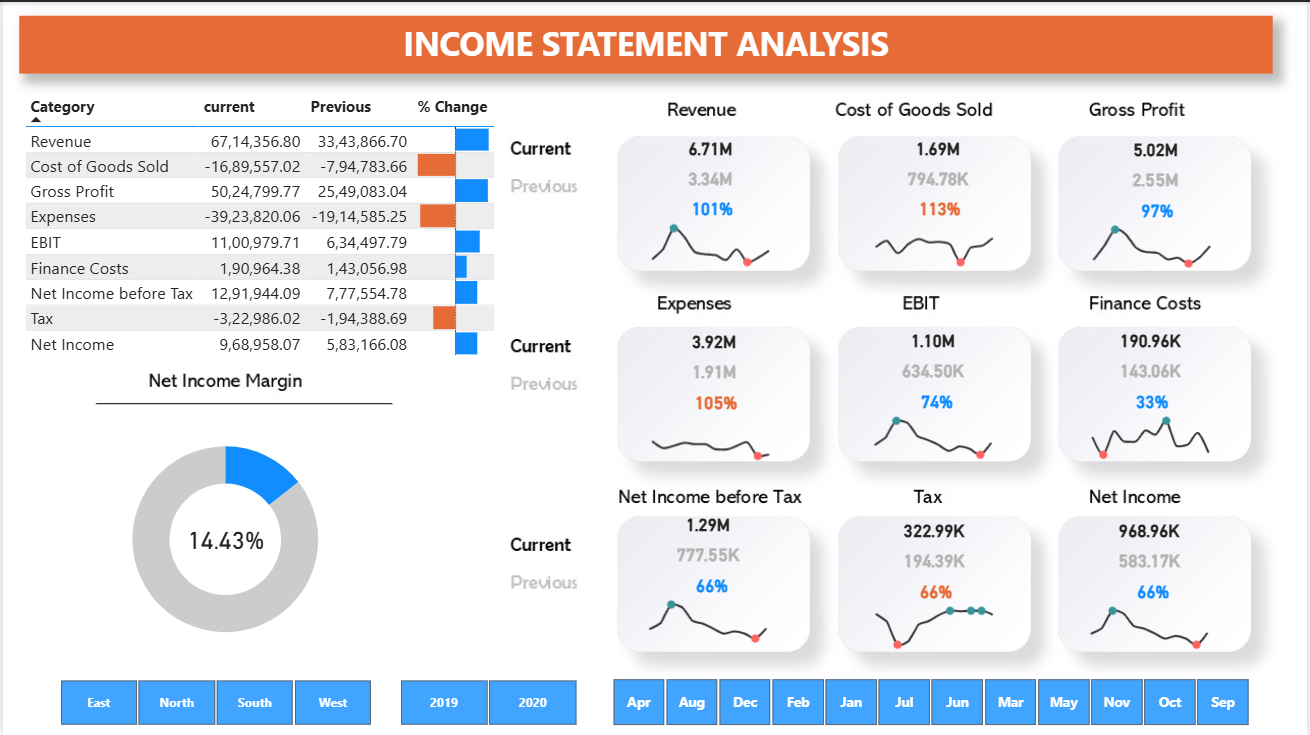

The page's visual inventory and layout, read from the dashboard file:
{"tool":"powerbi","page":{"name":"DashBoard","canvas":[1280,720],"ordinal":0},"visuals":[{"type":"tableEx","fields":{"Values":["layout.Category","COA.current","My Measures.Previous","My Measures.% Change"]},"box":[16,85.9,481,278.5],"z":0},{"type":"slicer","fields":{"Values":["Calender.Year"]},"box":[364.4,658.9,222.1,57.7],"z":1000},{"type":"textbox","box":[16,13.5,1230.7,56.4],"z":2000},{"type":"donutChart","fields":{"Y":["My Measures.Net Income Margin","My Measures.Inv Net Income Margin"]},"box":[51.5,408.6,333.7,238],"z":3000},{"type":"slicer","fields":{"Values":["Calender.Month Name"]},"box":[573,657.7,673.6,58.9],"z":4000},{"type":"card","fields":{"Values":["KPIs.Current Revenue"]},"box":[652.7,130.1,83.4,29.4],"z":5000,"group":"g1"},{"type":"card","fields":{"Values":["KPIs.COGS Current"]},"box":[875.8,130.1,83.4,29.4],"z":5000,"group":"g7"},{"type":"card","fields":{"Values":["KPIs.GP Current"]},"box":[1089.3,131.3,83.4,29.4],"z":5000,"group":"g8"},{"type":"card","fields":{"Values":["KPIs.EBIT Current"]},"box":[871.1,319,83.4,29.4],"z":5000,"group":"g2"},{"type":"card","fields":{"Values":["KPIs.Fin Cost Current"]},"box":[1084.6,319,83.4,29.4],"z":5000,"group":"g3"},{"type":"card","fields":{"Values":["KPIs.Current Expenses"]},"box":[656.1,320.2,83.4,29.4],"z":5000,"group":"g9"},{"type":"card","fields":{"Values":["KPIs.Current NIBT"]},"box":[650.3,499.4,83.4,29.4],"z":5000,"group":"g4"},{"type":"card","fields":{"Values":["KPIs.Current Tax"]},"box":[872.4,505.5,83.4,29.4],"z":5000,"group":"g6"},{"type":"card","fields":{"Values":["KPIs.Current NI"]},"box":[1083.4,505.5,83.4,29.4],"z":5000,"group":"g5"},{"type":"slicer","fields":{"Values":["Division.Division"]},"box":[30.7,658.9,354.6,57.7],"z":5000},{"type":"card","fields":{"Values":["KPIs.Revenue % Change"]},"box":[644.1,189,104.3,30.7],"z":6000,"group":"g1"},{"type":"card","fields":{"Values":["KPIs.COGS % Change"]},"box":[867.2,189,104.3,30.7],"z":6000,"group":"g7"},{"type":"card","fields":{"Values":["KPIs.GP % Change"]},"box":[1080.7,190.2,104.3,30.7],"z":6000,"group":"g8"},{"type":"card","fields":{"Values":["KPIs.EBIT % Change"]},"box":[862.5,377.9,104.3,30.7],"z":6000,"group":"g2"},{"type":"card","fields":{"Values":["KPIs.Fin Cost % Change"]},"box":[1076,377.9,104.3,30.7],"z":6000,"group":"g3"},{"type":"card","fields":{"Values":["KPIs.Expense % Change"]},"box":[647.5,379.1,104.3,30.7],"z":6000,"group":"g9"},{"type":"card","fields":{"Values":["My Measures.Net Income Margin"]},"box":[173,503.1,92,50.3],"z":6000},{"type":"card","fields":{"Values":["KPIs.NIBT % Change"]},"box":[641.7,558.3,104.3,30.7],"z":6000,"group":"g4"},{"type":"card","fields":{"Values":["KPIs.Tax % Change"]},"box":[863.8,564.4,104.3,30.7],"z":6000,"group":"g6"},{"type":"card","fields":{"Values":["KPIs.NI % Change"]},"box":[1074.8,564.4,104.3,30.7],"z":6000,"group":"g5"},{"type":"group","id":"g1","title":"Group 1","box":[619.6,130.1,153.4,136.2],"z":7000},{"type":"card","fields":{"Values":["KPIs.Previous Revenue"]},"box":[652.7,159.5,83.4,29.4],"z":7000,"group":"g1"},{"type":"card","fields":{"Values":["KPIs.COGS Previous"]},"box":[875.8,159.5,83.4,29.4],"z":7000,"group":"g7"},{"type":"card","fields":{"Values":["KPIs.GP Previous"]},"box":[1089.3,160.7,83.4,29.4],"z":7000,"group":"g8"},{"type":"card","fields":{"Values":["KPIs.EBIT Previous"]},"box":[871.1,348.4,83.4,29.4],"z":7000,"group":"g2"},{"type":"card","fields":{"Values":["KPIs.Fin Cost Previous"]},"box":[1084.6,348.4,83.4,29.4],"z":7000,"group":"g3"},{"type":"card","fields":{"Values":["KPIs.Previous Expenses"]},"box":[656.1,349.6,83.4,29.4],"z":7000,"group":"g9"},{"type":"card","fields":{"Values":["KPIs.Previous NIBT"]},"box":[650.3,528.8,83.4,29.4],"z":7000,"group":"g4"},{"type":"card","fields":{"Values":["KPIs.Previous Tax"]},"box":[872.4,534.9,83.4,29.4],"z":7000,"group":"g6"},{"type":"card","fields":{"Values":["KPIs.Previous NI"]},"box":[1083.4,534.9,83.4,29.4],"z":7000,"group":"g5"},{"type":"group","id":"g2","title":"Group 1","box":[838,319,153.4,136.2],"z":8000},{"type":"group","id":"g3","title":"Group 1","box":[1051.5,319,153.4,136.2],"z":9000},{"type":"PBI_CV_25997FEB_F466_44FA_B562_AC4063283C4C","fields":{"axis":["Calender.Month Name"],"measure":["My Measures.COGS"]},"box":[839.3,204.6,153.4,61.4],"z":10000,"group":"g7"},{"type":"PBI_CV_25997FEB_F466_44FA_B562_AC4063283C4C","fields":{"axis":["Calender.Month Name"],"measure":["My Measures.Revenue"]},"box":[619.6,204.9,153.4,61.4],"z":10000,"group":"g1"},{"type":"PBI_CV_25997FEB_F466_44FA_B562_AC4063283C4C","fields":{"axis":["Calender.Month Name"],"measure":["My Measures.Gross Profit"]},"box":[1052.8,205.8,153.4,61.4],"z":10000,"group":"g8"},{"type":"PBI_CV_25997FEB_F466_44FA_B562_AC4063283C4C","fields":{"axis":["Calender.Month Name"],"measure":["My Measures.EBIT"]},"box":[838,393.8,153.4,61.4],"z":10000,"group":"g2"},{"type":"PBI_CV_25997FEB_F466_44FA_B562_AC4063283C4C","fields":{"axis":["Calender.Month Name"],"measure":["My Measures.Finance Costs"]},"box":[1051.5,393.8,153.4,61.4],"z":10000,"group":"g3"},{"type":"PBI_CV_25997FEB_F466_44FA_B562_AC4063283C4C","fields":{"axis":["Calender.Month Name"],"measure":["My Measures.Expenses"]},"box":[619.6,394.7,153.4,61.4],"z":10000,"group":"g9"},{"type":"group","id":"g4","title":"Group 1","box":[617.2,499.4,153.4,136.2],"z":10000},{"type":"PBI_CV_25997FEB_F466_44FA_B562_AC4063283C4C","fields":{"axis":["Calender.Month Name"],"measure":["My Measures.Net Income Before Tax"]},"box":[617.2,574.2,153.4,61.4],"z":10000,"group":"g4"},{"type":"PBI_CV_25997FEB_F466_44FA_B562_AC4063283C4C","fields":{"axis":["Calender.Month Name"],"measure":["My Measures.Tax"]},"box":[839.3,580.3,153.4,61.4],"z":10000,"group":"g6"},{"type":"PBI_CV_25997FEB_F466_44FA_B562_AC4063283C4C","fields":{"axis":["Calender.Month Name"],"measure":["My Measures.Net Income"]},"box":[1050.3,580.3,153.4,61.4],"z":10000,"group":"g5"},{"type":"group","id":"g5","title":"Group 1","box":[1050.3,505.5,153.4,136.2],"z":11000},{"type":"group","id":"g6","title":"Group 1","box":[839.3,505.5,153.4,136.2],"z":12000},{"type":"group","id":"g7","title":"Group 1","box":[839.3,130.1,153.4,136.2],"z":13000},{"type":"group","id":"g8","title":"Group 2","box":[1052.8,131.3,153.4,135.8],"z":14000},{"type":"group","id":"g9","title":"Group 2","box":[619.6,320.2,153.4,136.2],"z":15000}]}

Visuals, with their boxes in screenshot pixels (x1, y1, x2, y2), scaled from the page's 1280x720 canvas onto the 1310x735 screenshot:
tableEx - layout.Category x COA.current: [16,88,509,372]
slicer - Calender.Year: [373,673,600,732]
textbox: [16,14,1276,71]
donutChart - My Measures.Net Income Margin x My Measures.Inv Net Income Margin: [53,417,394,660]
slicer - Calender.Month Name: [586,671,1276,732]
card - KPIs.Current Revenue: [668,133,753,163]
card - KPIs.COGS Current: [896,133,982,163]
card - KPIs.GP Current: [1115,134,1200,164]
card - KPIs.EBIT Current: [892,326,977,356]
card - KPIs.Fin Cost Current: [1110,326,1195,356]
card - KPIs.Current Expenses: [671,327,757,357]
card - KPIs.Current NIBT: [666,510,751,540]
card - KPIs.Current Tax: [893,516,978,546]
card - KPIs.Current NI: [1109,516,1194,546]
slicer - Division.Division: [31,673,394,732]
card - KPIs.Revenue % Change: [659,193,766,224]
card - KPIs.COGS % Change: [888,193,994,224]
card - KPIs.GP % Change: [1106,194,1213,226]
card - KPIs.EBIT % Change: [883,386,989,417]
card - KPIs.Fin Cost % Change: [1101,386,1208,417]
card - KPIs.Expense % Change: [663,387,769,418]
card - My Measures.Net Income Margin: [177,514,271,565]
card - KPIs.NIBT % Change: [657,570,763,601]
card - KPIs.Tax % Change: [884,576,991,607]
card - KPIs.NI % Change: [1100,576,1207,607]
"Group 1" group: [634,133,791,272]
card - KPIs.Previous Revenue: [668,163,753,193]
card - KPIs.COGS Previous: [896,163,982,193]
card - KPIs.GP Previous: [1115,164,1200,194]
card - KPIs.EBIT Previous: [892,356,977,386]
card - KPIs.Fin Cost Previous: [1110,356,1195,386]
card - KPIs.Previous Expenses: [671,357,757,387]
card - KPIs.Previous NIBT: [666,540,751,570]
card - KPIs.Previous Tax: [893,546,978,576]
card - KPIs.Previous NI: [1109,546,1194,576]
"Group 1" group: [858,326,1015,465]
"Group 1" group: [1076,326,1233,465]
PBI_CV_25997FEB_F466_44FA_B562_AC4063283C4C - Calender.Month Name x My Measures.COGS: [859,209,1016,272]
PBI_CV_25997FEB_F466_44FA_B562_AC4063283C4C - Calender.Month Name x My Measures.Revenue: [634,209,791,272]
PBI_CV_25997FEB_F466_44FA_B562_AC4063283C4C - Calender.Month Name x My Measures.Gross Profit: [1077,210,1234,273]
PBI_CV_25997FEB_F466_44FA_B562_AC4063283C4C - Calender.Month Name x My Measures.EBIT: [858,402,1015,465]
PBI_CV_25997FEB_F466_44FA_B562_AC4063283C4C - Calender.Month Name x My Measures.Finance Costs: [1076,402,1233,465]
PBI_CV_25997FEB_F466_44FA_B562_AC4063283C4C - Calender.Month Name x My Measures.Expenses: [634,403,791,466]
"Group 1" group: [632,510,789,649]
PBI_CV_25997FEB_F466_44FA_B562_AC4063283C4C - Calender.Month Name x My Measures.Net Income Before Tax: [632,586,789,649]
PBI_CV_25997FEB_F466_44FA_B562_AC4063283C4C - Calender.Month Name x My Measures.Tax: [859,592,1016,655]
PBI_CV_25997FEB_F466_44FA_B562_AC4063283C4C - Calender.Month Name x My Measures.Net Income: [1075,592,1232,655]
"Group 1" group: [1075,516,1232,655]
"Group 1" group: [859,516,1016,655]
"Group 1" group: [859,133,1016,272]
"Group 2" group: [1077,134,1234,273]
"Group 2" group: [634,327,791,466]
